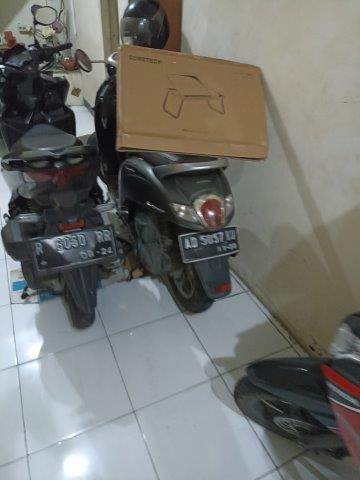kardus: (118, 45, 267, 158)
